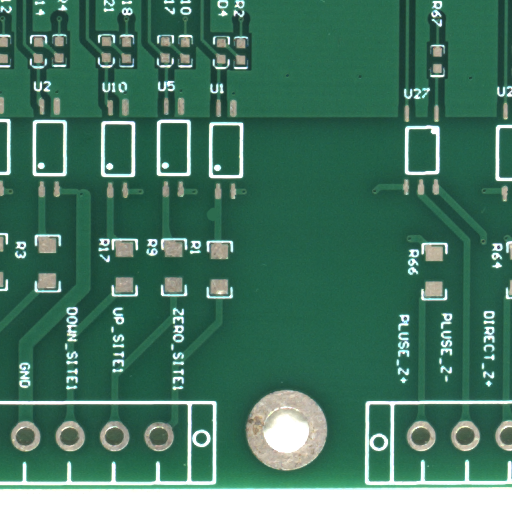Spur: (211, 213, 221, 227)
